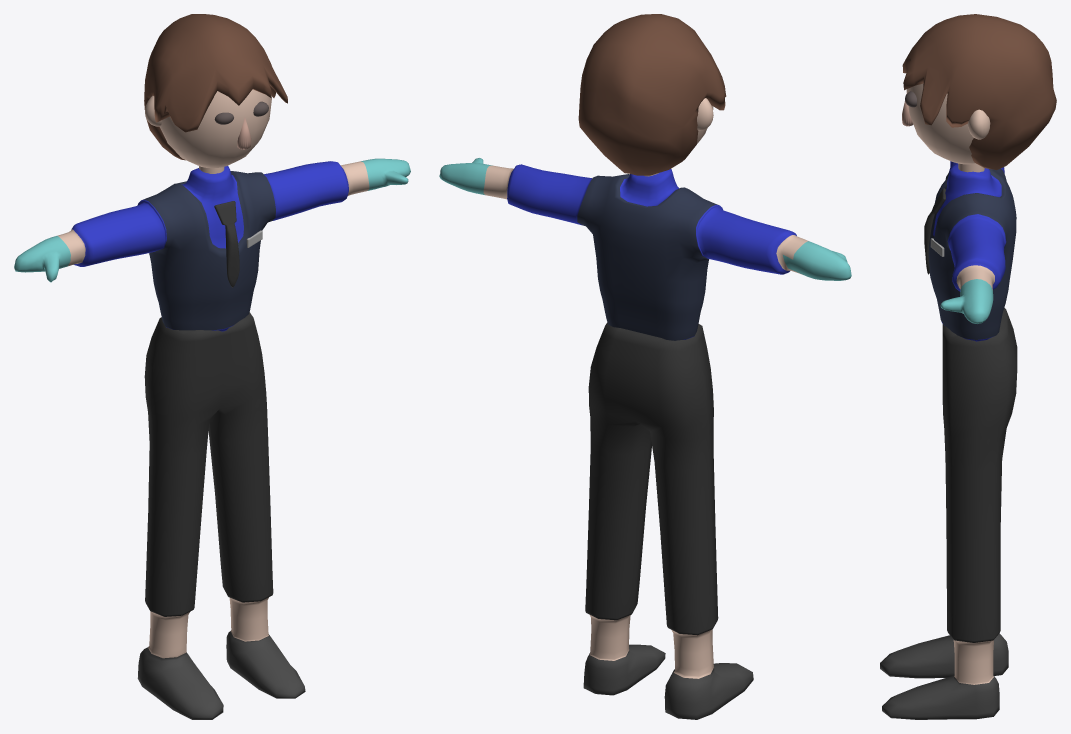
Rendered from TSA #1.fbx.
3 views of the same model, side by side, from view 1: azimuth 30°, elevation 25°; view 2: azimuth 150°, elevation 25°; view 3: azimuth 270°, elevation 25° (orthographic). The views are drawn at different scales.
Visible parts, largest first — view 1: pCube35, pCube42, lobby_boy_head3; view 2: pCube35, pCube42, lobby_boy_head3; view 3: pCube35, lobby_boy_head3, pCube42.
Boxes of the visible parts, x1,y1,x2,y2 form: pCube35: [137, 312, 305, 719]; pCube42: [14, 158, 410, 331]; lobby_boy_head3: [144, 14, 287, 173]; pCube35: [583, 322, 753, 719]; pCube42: [439, 158, 851, 340]; lobby_boy_head3: [578, 14, 726, 176]; pCube35: [880, 308, 1017, 719]; lobby_boy_head3: [902, 14, 1056, 172]; pCube42: [924, 161, 1016, 341].
Size of the model in its own units: 25.38 by 40.11 by 9.51.
